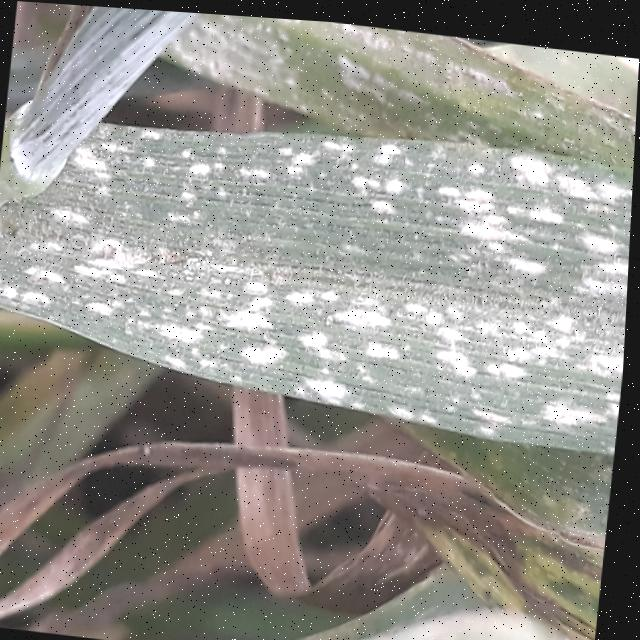powder_mildew: (0, 0, 640, 544), (211, 500, 610, 640), (0, 405, 224, 640)
